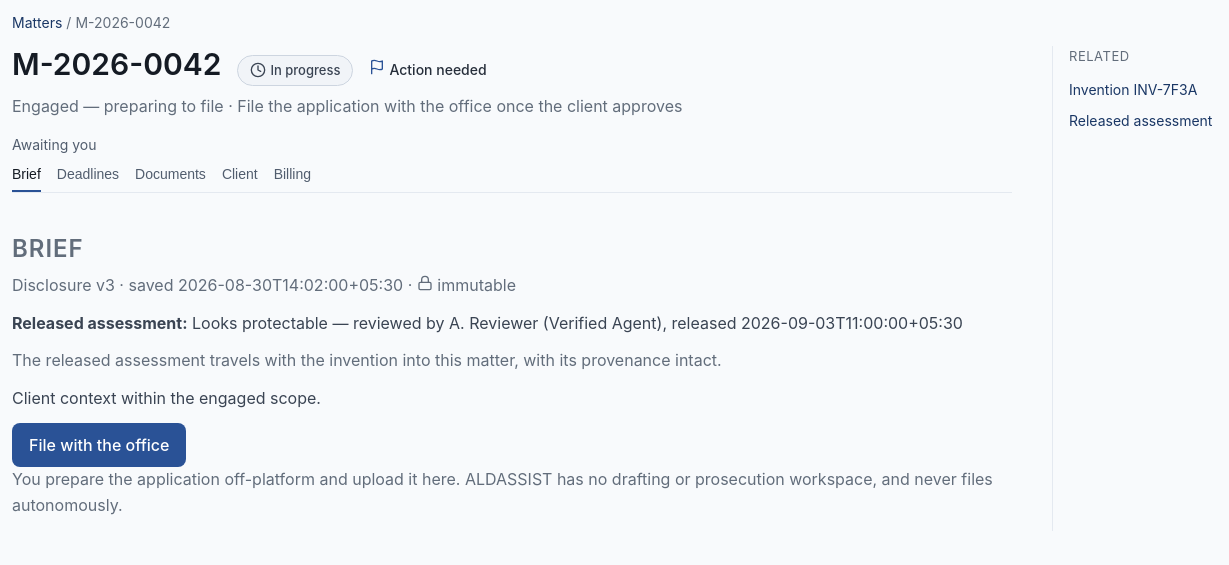
SC-A05 agent matter detail › distinguishes AI-generated from human-authored documents (IP-07)
Click the button "Documents": point(170, 175) [135,158,206,192]
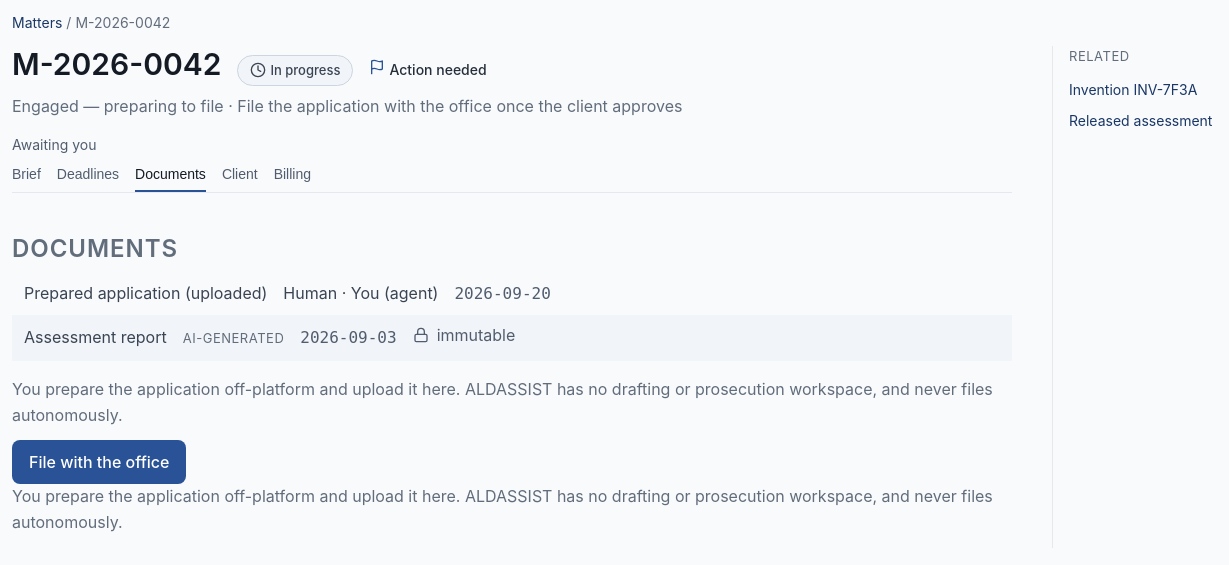
Expected: the text "AI-generated" is shown, [183,328,284,349]
Expected: the text "Human · You (agent)" is shown, [283,281,438,307]
